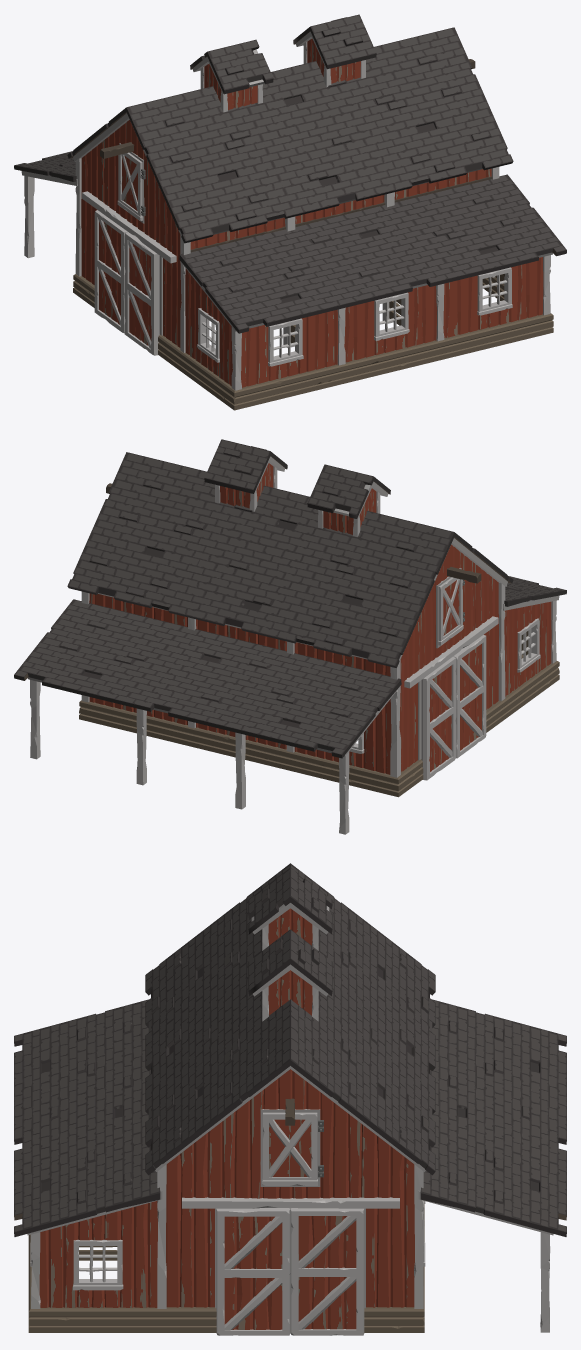
Rendered from sc-barn.glb.
The picture shows the model from 3 angles, top to bottom: view 1: azimuth 30°, elevation 25°; view 2: azimuth 150°, elevation 25°; view 3: azimuth 270°, elevation 25°; orthographic projection. The views are drawn at different scales.
Parts seen in each view (by area): view 1: SM_Bld_Barn_01, SM_Bld_Barn_01_Door_01, SM_Bld_Barn_01_Door_02, SM_Bld_Barn_01_Shutter_01; view 2: SM_Bld_Barn_01, SM_Bld_Barn_01_Door_02, SM_Bld_Barn_01_Door_01, SM_Bld_Barn_01_Shutter_01; view 3: SM_Bld_Barn_01, SM_Bld_Barn_01_Door_03, SM_Bld_Barn_01_Door_04, SM_Bld_Barn_01_Shutter_02.
Boxes of the visible parts, <box> form: SM_Bld_Barn_01: <box>14,14,566,410</box>; SM_Bld_Barn_01_Door_01: <box>124,232,159,355</box>; SM_Bld_Barn_01_Door_02: <box>94,210,127,333</box>; SM_Bld_Barn_01_Shutter_01: <box>117,152,142,220</box>; SM_Bld_Barn_01: <box>14,439,566,834</box>; SM_Bld_Barn_01_Door_02: <box>421,657,456,780</box>; SM_Bld_Barn_01_Door_01: <box>453,635,486,758</box>; SM_Bld_Barn_01_Shutter_01: <box>438,577,463,645</box>; SM_Bld_Barn_01: <box>14,863,566,1332</box>; SM_Bld_Barn_01_Door_03: <box>216,1208,290,1335</box>; SM_Bld_Barn_01_Door_04: <box>290,1208,364,1335</box>; SM_Bld_Barn_01_Shutter_02: <box>262,1112,317,1185</box>.
Size of the model in its own units: 17.16 by 11.58 by 18.
1 material, 1 textured.
